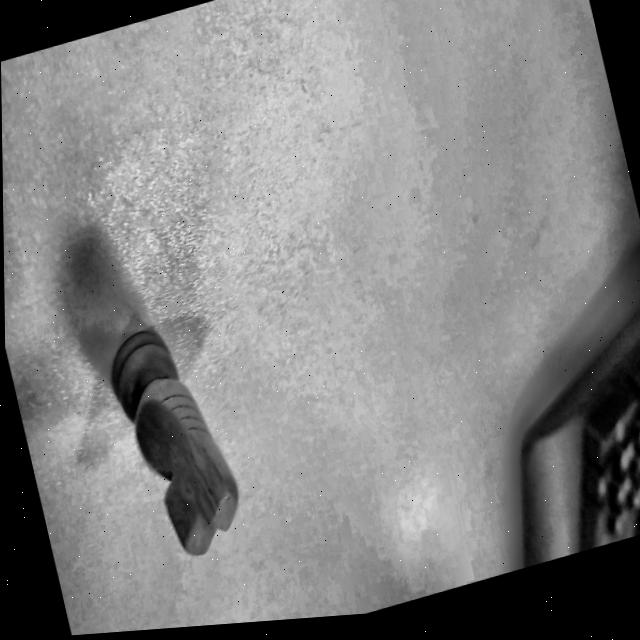white-knight: (109, 330, 237, 555)
